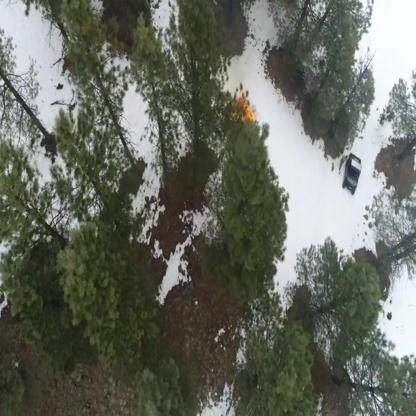Fire: (238, 98, 256, 121)
